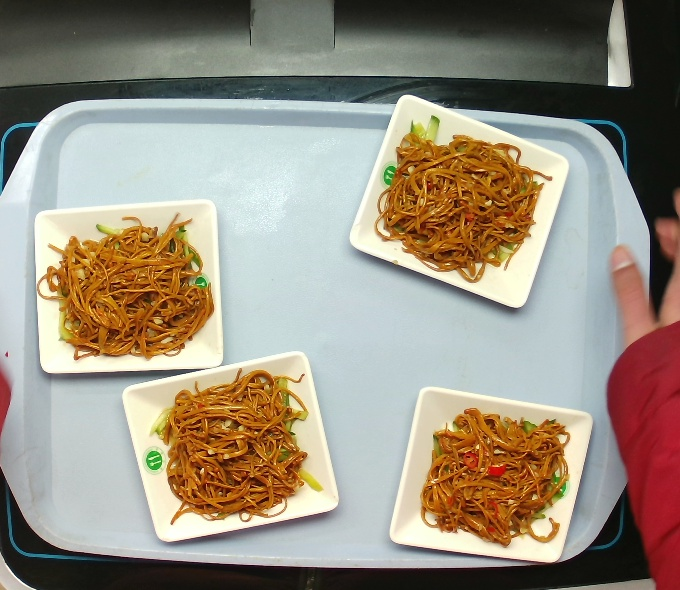wcq-LiangBanChongCaoHua: (370, 110, 556, 289), (40, 207, 218, 363), (156, 369, 327, 524), (417, 405, 576, 553)
